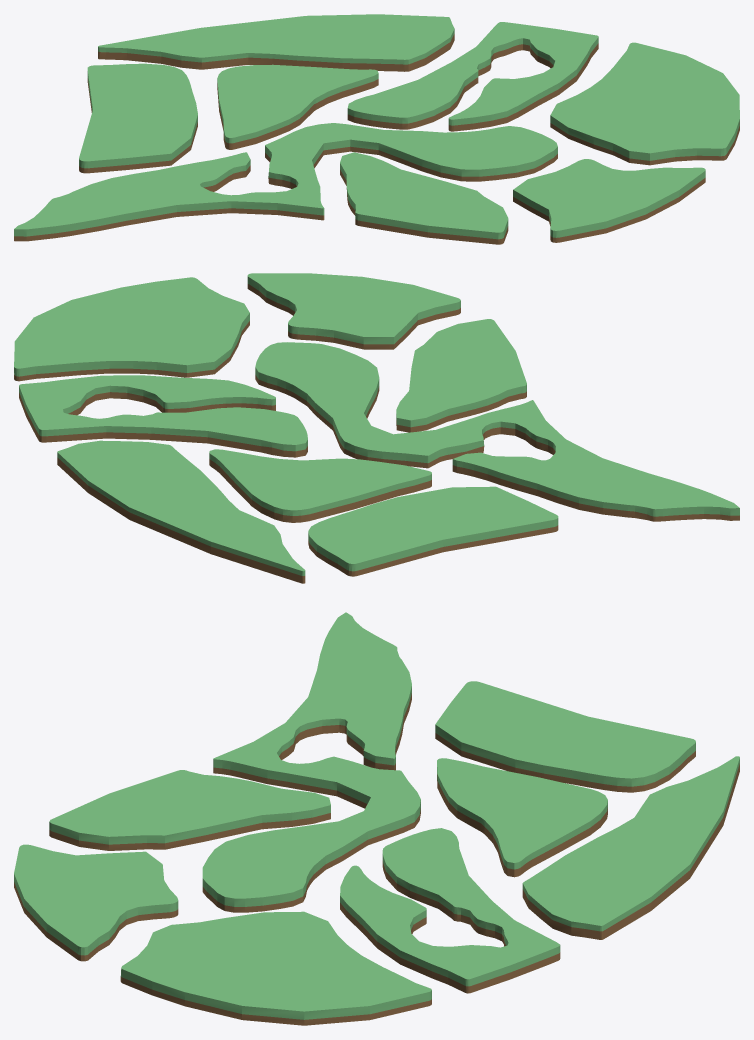
The model's file is Tiles_meshFinal.fbx.
The picture shows the model from 3 angles, top to bottom: view 1: azimuth 30°, elevation 25°; view 2: azimuth 150°, elevation 25°; view 3: azimuth 270°, elevation 25°; orthographic projection. The views are drawn at different scales.
Parts seen in each view (by area): view 1: polySurface1, polySurface4, polySurface6, polySurface5, polySurface7, polySurface3, polySurface2, polySurface8; view 2: polySurface1, polySurface4, polySurface5, polySurface6, polySurface7, polySurface3, polySurface8, polySurface2; view 3: polySurface1, polySurface4, polySurface6, polySurface5, polySurface7, polySurface2, polySurface3, polySurface8.
Boxes of the visible parts, left/top/right/bottom form: polySurface1: left=14, top=123, right=557, bottom=241; polySurface4: left=550, top=42, right=739, bottom=165; polySurface6: left=98, top=14, right=454, bottom=71; polySurface5: left=347, top=22, right=598, bottom=131; polySurface7: left=79, top=63, right=197, bottom=173; polySurface3: left=513, top=159, right=705, bottom=242; polySurface2: left=340, top=152, right=508, bottom=244; polySurface8: left=217, top=64, right=378, bottom=149; polySurface1: left=255, top=342, right=739, bottom=521; polySurface4: left=14, top=277, right=249, bottom=381; polySurface5: left=19, top=375, right=307, bottom=457; polySurface6: left=57, top=440, right=305, bottom=583; polySurface7: left=308, top=486, right=558, bottom=576; polySurface3: left=247, top=273, right=460, bottom=349; polySurface8: left=209, top=449, right=431, bottom=522; polySurface2: left=396, top=319, right=526, bottom=432; polySurface1: left=202, top=612, right=420, bottom=912; polySurface4: left=120, top=911, right=431, bottom=1025; polySurface6: left=522, top=756, right=739, bottom=939; polySurface5: left=340, top=828, right=560, bottom=993; polySurface7: left=435, top=681, right=695, bottom=792; polySurface2: left=49, top=770, right=330, bottom=850; polySurface3: left=14, top=844, right=178, bottom=961; polySurface8: left=437, top=758, right=607, bottom=877.
Bounding box in the file's own units: 4436 × 75.85 × 3407.
